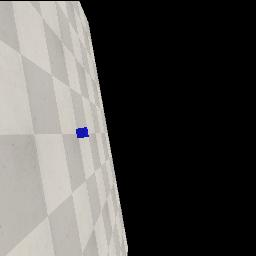box: (76, 127, 89, 138)
